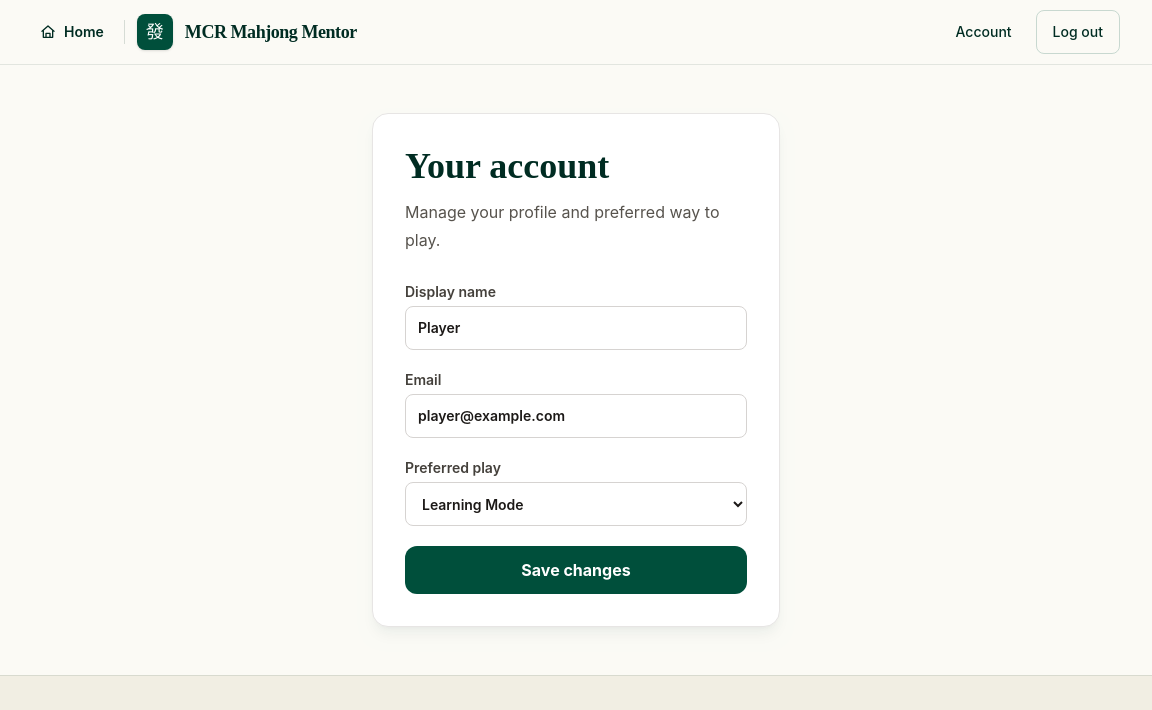
Test: AccountPage navigation › edits identity details and the local play preference
Replace the text in the field labelled "Display name" with "Updated Player" at [576, 328], box [405,306,747,350]
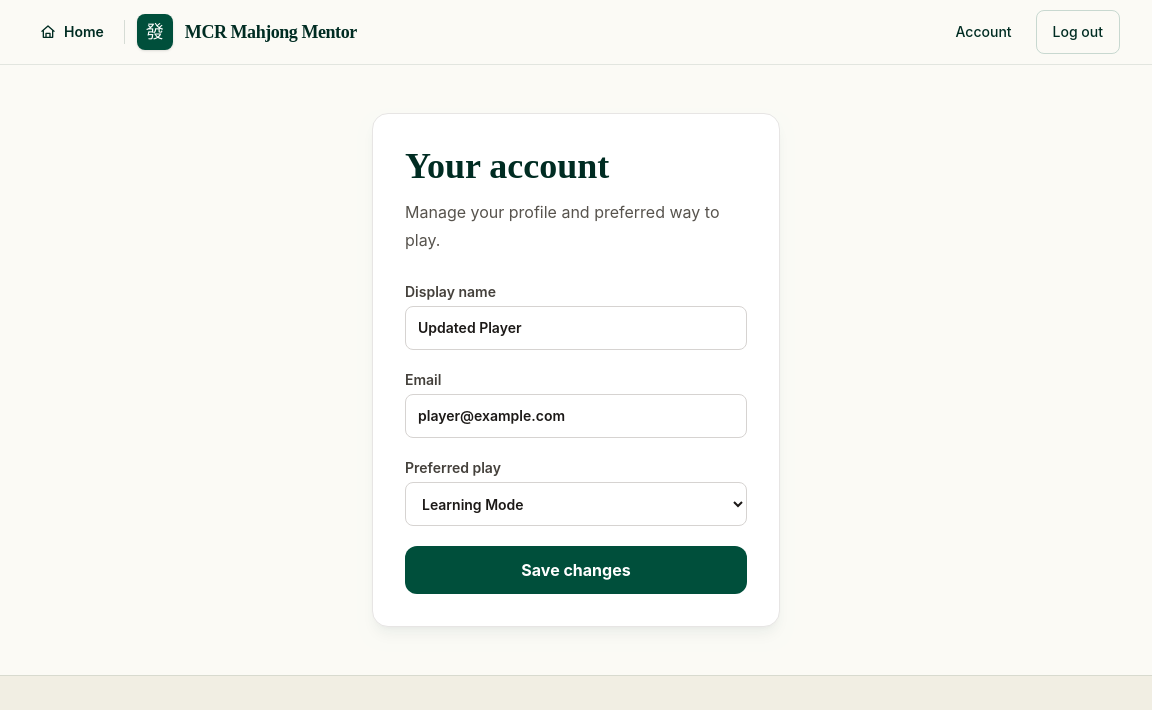
Replace the text in the field labelled "Email" with "updated@example.com" at [576, 416], box [405,394,747,438]
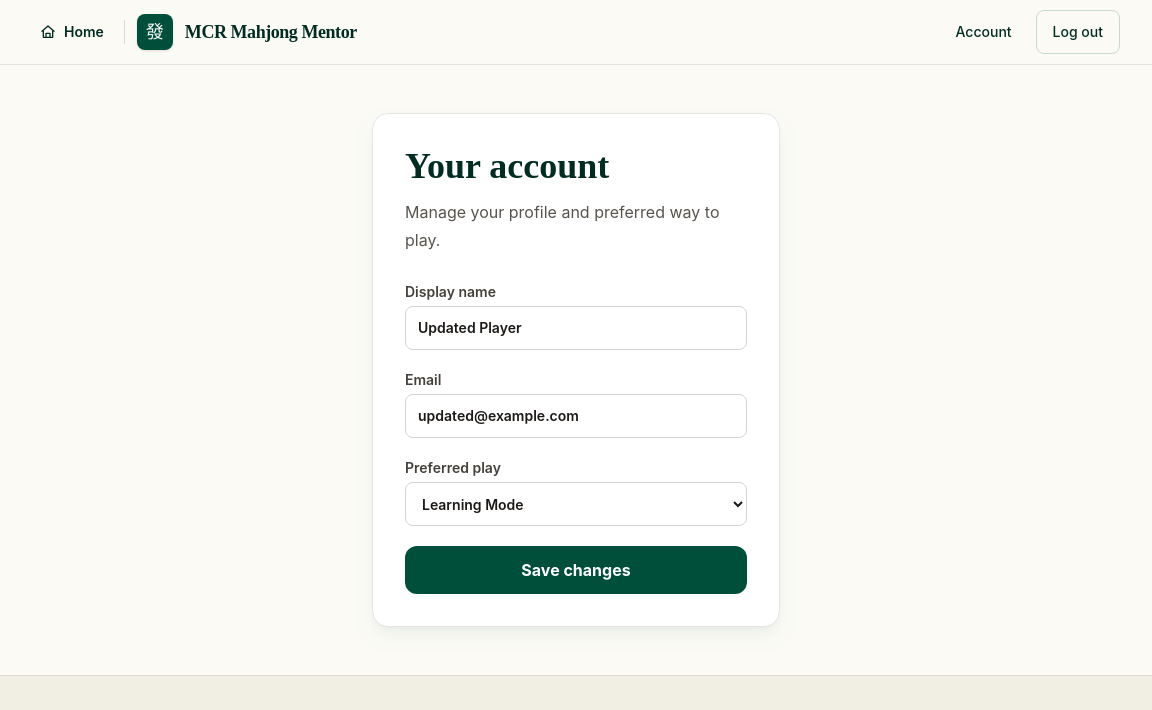
Select "Play Without Help" in the dropdown labelled "Preferred play" at [576, 504], box [405,482,747,526]
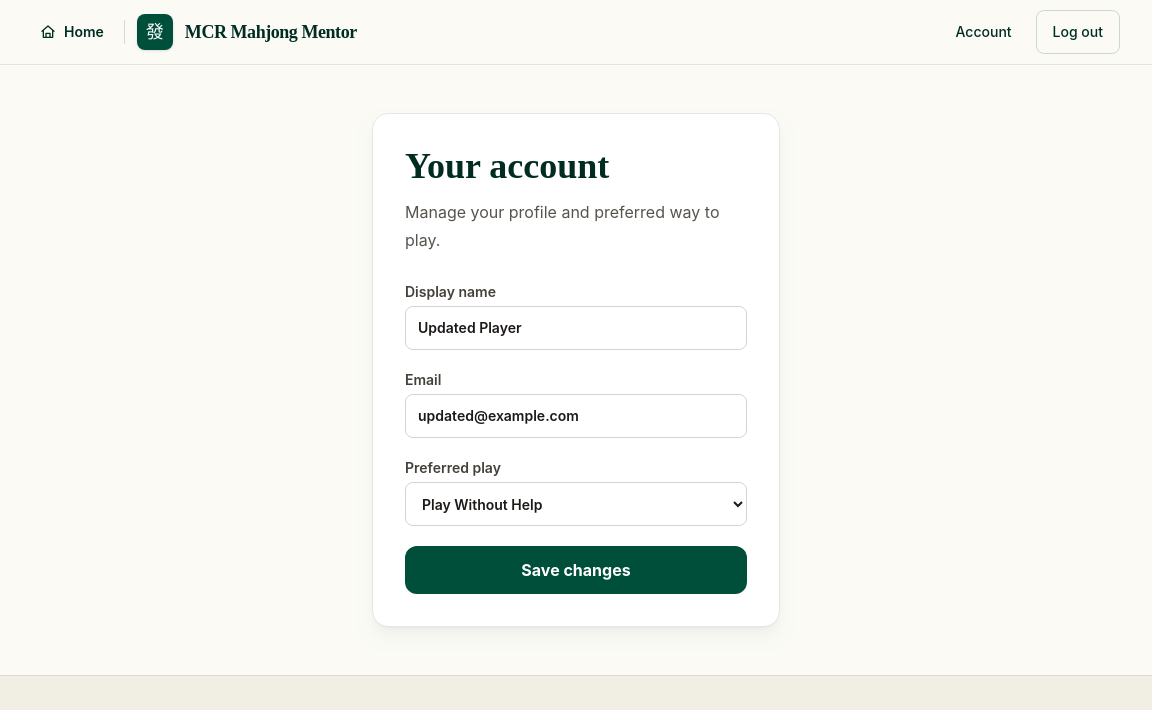
Click the button "Save changes" at [576, 570], box [405,546,747,594]
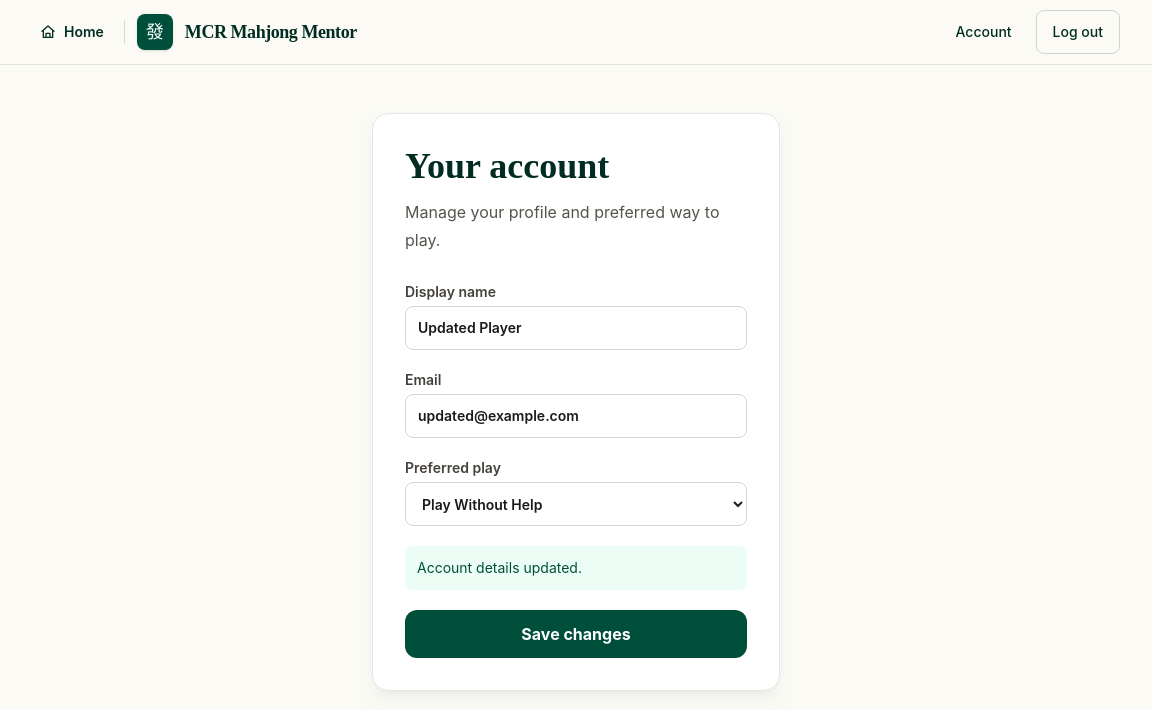
Now the message reads "Account details updated.", box [417,559,582,576]
